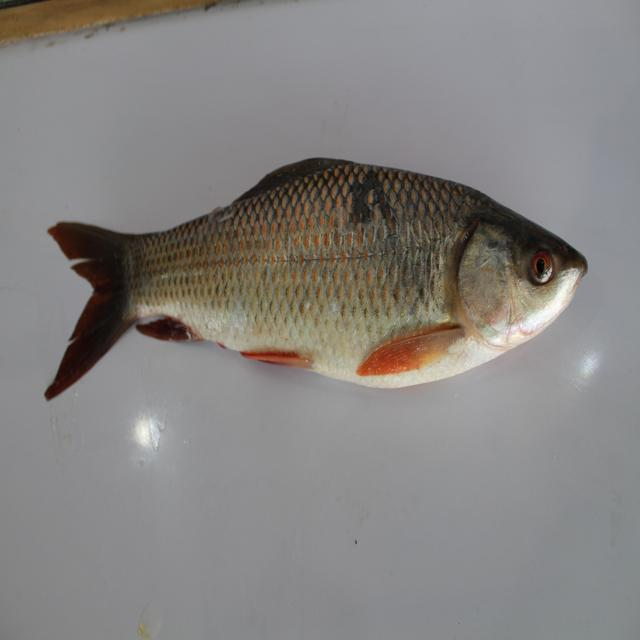Rohu: (42, 155, 583, 414)
